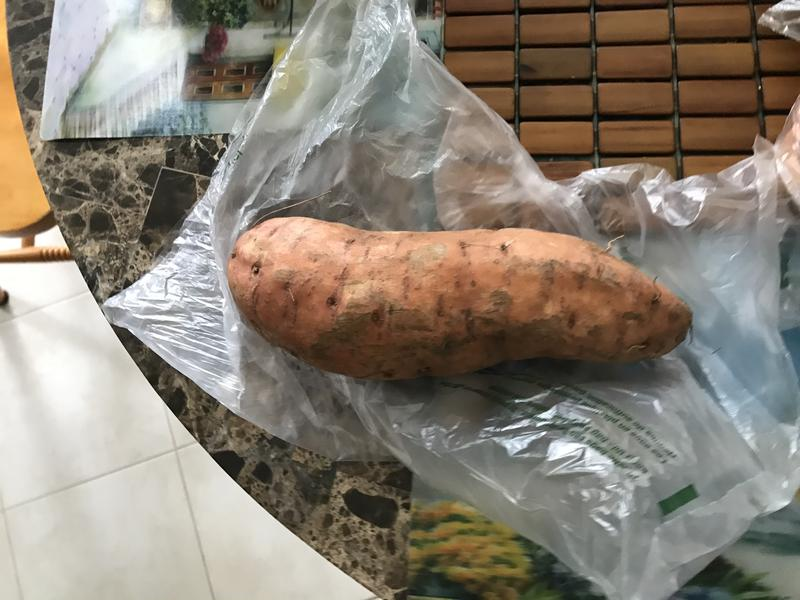sweet_potato: (222, 207, 703, 382)
